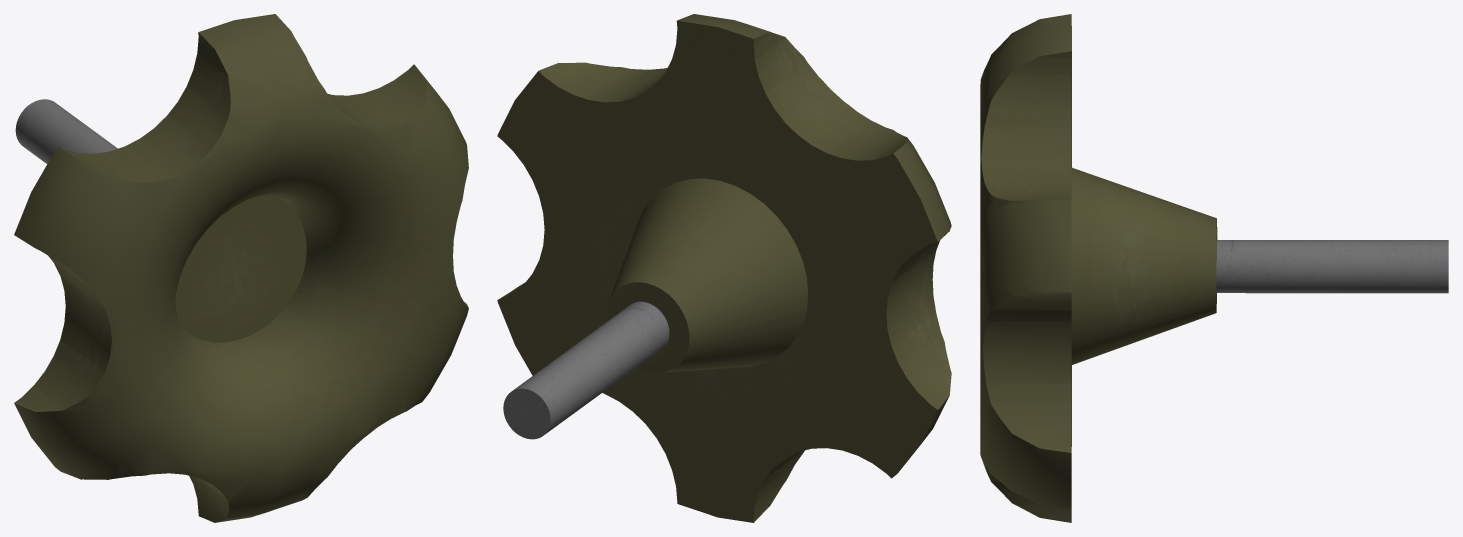
The model's file is ValveTopR.gltf.
The picture shows the model from 3 angles, left to right: view 1: azimuth 30°, elevation 25°; view 2: azimuth 150°, elevation 25°; view 3: azimuth 270°, elevation 25°; orthographic projection. The views are drawn at different scales.
Visible parts, largest first — view 1: ValveTopR; view 2: ValveTopR; view 3: ValveTopR.
Part boxes in pixels (bbox=[...]): ValveTopR: bbox=[14, 14, 468, 522]; ValveTopR: bbox=[497, 14, 951, 522]; ValveTopR: bbox=[980, 14, 1448, 522].
Bounding box in the file's own units: 0.0298 × 0.0317 × 0.0281.
2 materials, 2 textured.
